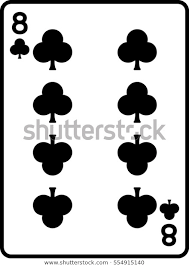eigth of clubs: (1, 2, 189, 254)
